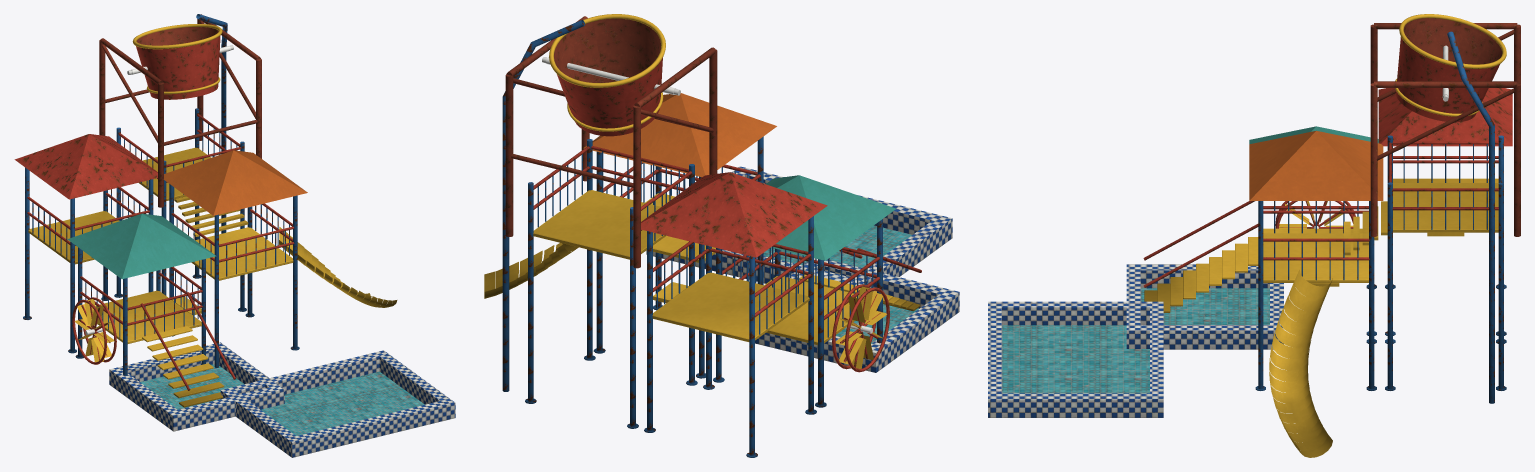
The model's file is sala_area_bimbi.gltf.
The picture shows the model from 3 angles, left to right: view 1: azimuth 30°, elevation 25°; view 2: azimuth 150°, elevation 25°; view 3: azimuth 270°, elevation 25°; orthographic projection. The views are drawn at different scales.
Parts seen in each view (by area): view 1: sala_struttura_gioco, sala_vasca_bimbi_1, sala_vasca_bimbi_2, sala_secchio_gigante, sala_ruota_pale; view 2: sala_struttura_gioco, sala_secchio_gigante, sala_vasca_bimbi_1, sala_vasca_bimbi_2, sala_ruota_pale; view 3: sala_struttura_gioco, sala_vasca_bimbi_1, sala_vasca_bimbi_2, sala_secchio_gigante, sala_ruota_pale.
Boxes of the visible parts, <box> form: sala_struttura_gioco: <box>14,14,397,407</box>; sala_vasca_bimbi_1: <box>220,350,455,457</box>; sala_vasca_bimbi_2: <box>109,342,284,431</box>; sala_secchio_gigante: <box>131,24,230,99</box>; sala_ruota_pale: <box>72,297,116,364</box>; sala_struttura_gioco: <box>484,16,921,457</box>; sala_secchio_gigante: <box>546,14,675,136</box>; sala_vasca_bimbi_1: <box>646,166,952,287</box>; sala_vasca_bimbi_2: <box>755,258,959,372</box>; sala_ruota_pale: <box>832,284,889,372</box>; sala_struttura_gioco: <box>1143,23,1520,457</box>; sala_vasca_bimbi_1: <box>988,301,1163,417</box>; sala_vasca_bimbi_2: <box>1126,264,1283,349</box>; sala_secchio_gigante: <box>1395,14,1506,122</box>; sala_ruota_pale: <box>1275,201,1355,228</box>.
Size of what is drawn, in the model's own units: 9.31 by 8.31 by 11.53.
Materials: 9 (9 with a texture image).
